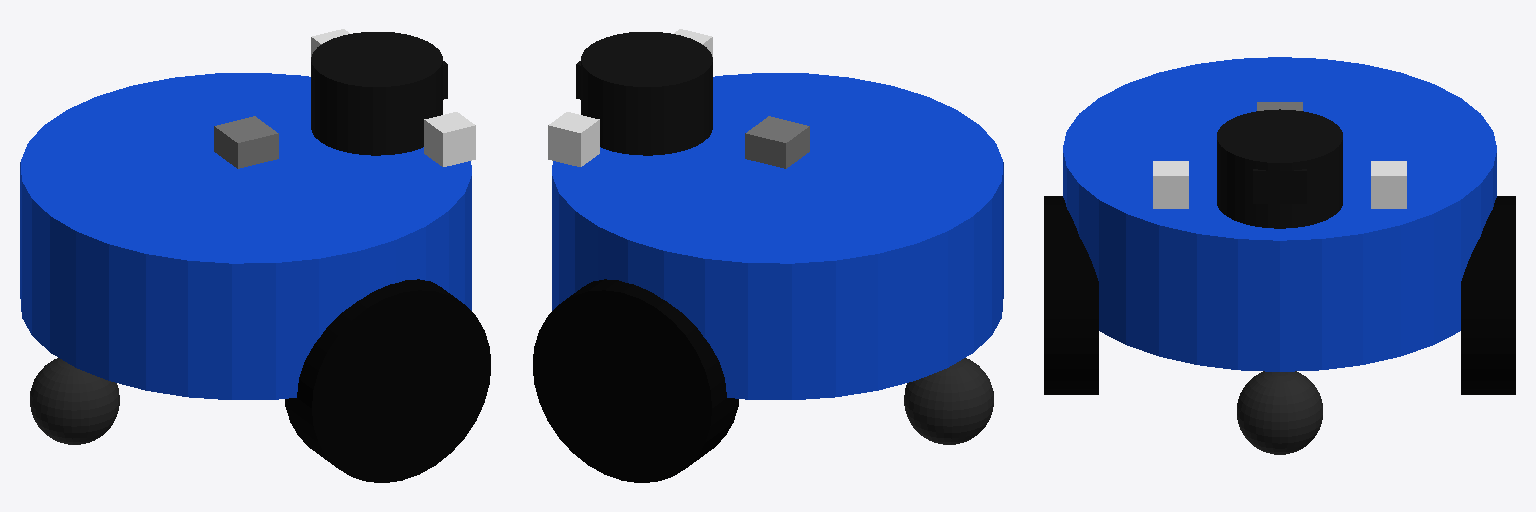
The robot description file, URDF, robot "fishbot":
<?xml version="1.0"?>
<robot name="fishbot">

  <link name="base_footprint"/>

  <joint name="base_joint" type="fixed">
    <parent link="base_footprint"/>
    <child link="base_link"/>
    <origin xyz="0 0 0.055" rpy="0 0 0"/>
  </joint>

  <link name="base_link">
    <visual>
      <origin xyz="0 0 0.04" rpy="0 0 0"/>
      <geometry>
        <cylinder length="0.08" radius="0.12"/>
      </geometry>
      <material name="body_blue">
        <color rgba="0.1 0.35 0.9 0.9"/>
      </material>
    </visual>
    <collision>
      <origin xyz="0 0 0.04" rpy="0 0 0"/>
      <geometry>
        <cylinder length="0.08" radius="0.11"/>
      </geometry>
    </collision>
    <inertial>
      <origin xyz="0 0 0.04" rpy="0 0 0"/>
      <mass value="6.0"/>
      <inertia ixx="0.0304" ixy="0.0" ixz="0.0" iyy="0.0304" iyz="0.0" izz="0.0436"/>
    </inertial>
  </link>

  <link name="velodyne">
    <visual>
      <origin xyz="0 0 0" rpy="0 0 0"/>
      <geometry>
        <cylinder length="0.04" radius="0.035"/>
      </geometry>
      <material name="sensor_black">
        <color rgba="0.1 0.1 0.1 1.0"/>
      </material>
    </visual>
    <collision>
      <origin xyz="0 0 0" rpy="0 0 0"/>
      <geometry>
        <cylinder length="0.04" radius="0.035"/>
      </geometry>
    </collision>
    <inertial>
      <mass value="0.15"/>
      <inertia ixx="0.00012" ixy="0.0" ixz="0.0" iyy="0.00012" iyz="0.0" izz="0.00009"/>
    </inertial>
  </link>

  <joint name="lidar_joint" type="fixed">
    <parent link="base_link"/>
    <child link="velodyne"/>
    <origin xyz="0.08 0 0.105" rpy="0 0 0"/>
  </joint>

  <link name="imu_link">
    <visual>
      <origin xyz="0 0 0" rpy="0 0 0"/>
      <geometry>
        <box size="0.025 0.025 0.015"/>
      </geometry>
      <material name="imu_gray">
        <color rgba="0.5 0.5 0.5 1.0"/>
      </material>
    </visual>
    <collision>
      <origin xyz="0 0 0" rpy="0 0 0"/>
      <geometry>
        <box size="0.025 0.025 0.015"/>
      </geometry>
    </collision>
    <inertial>
      <mass value="0.05"/>
      <inertia ixx="0.00001" ixy="0.0" ixz="0.0" iyy="0.00001" iyz="0.0" izz="0.00001"/>
    </inertial>
  </link>

  <joint name="imu_joint" type="fixed">
    <parent link="base_link"/>
    <child link="imu_link"/>
    <origin xyz="0 0 0.095" rpy="0 0 0"/>
  </joint>

  <link name="camera_link">
    <visual>
      <origin xyz="0 0 0" rpy="0 0 0"/>
      <geometry>
        <box size="0.03 0.03 0.02"/>
      </geometry>
      <material name="sensor_black"/>
    </visual>
    <collision>
      <origin xyz="0 0 0" rpy="0 0 0"/>
      <geometry>
        <box size="0.03 0.03 0.02"/>
      </geometry>
    </collision>
    <inertial>
      <mass value="0.05"/>
      <inertia ixx="0.00001" ixy="0.0" ixz="0.0" iyy="0.00001" iyz="0.0" izz="0.00001"/>
    </inertial>
  </link>

  <joint name="camera_joint" type="fixed">
    <parent link="base_link"/>
    <child link="camera_link"/>
    <origin xyz="0.10 0.0 0.11" rpy="0 0 0"/>
  </joint>

  <link name="camera_optical_frame"/>

  <joint name="camera_optical_joint" type="fixed">
    <parent link="camera_link"/>
    <child link="camera_optical_frame"/>
    <origin xyz="0 0 0" rpy="-1.57079632679 0 -1.57079632679"/>
  </joint>

  <link name="navsat_link">
    <visual>
      <origin xyz="0 0 0" rpy="0 0 0"/>
      <geometry>
        <box size="0.02 0.02 0.02"/>
      </geometry>
      <material name="gps_white">
        <color rgba="0.95 0.95 0.95 1.0"/>
      </material>
    </visual>
    <collision>
      <origin xyz="0 0 0" rpy="0 0 0"/>
      <geometry>
        <box size="0.02 0.02 0.02"/>
      </geometry>
    </collision>
    <inertial>
      <mass value="0.05"/>
      <inertia ixx="0.00001" ixy="0.0" ixz="0.0" iyy="0.00001" iyz="0.0" izz="0.00001"/>
    </inertial>
  </link>

  <joint name="navsat_joint" type="fixed">
    <parent link="base_link"/>
    <child link="navsat_link"/>
    <origin xyz="0.09 0.06 0.10" rpy="0 0 0"/>
  </joint>

  <link name="gps_link">
    <visual>
      <origin xyz="0 0 0" rpy="0 0 0"/>
      <geometry>
        <box size="0.02 0.02 0.02"/>
      </geometry>
      <material name="gps_white"/>
    </visual>
    <collision>
      <origin xyz="0 0 0" rpy="0 0 0"/>
      <geometry>
        <box size="0.02 0.02 0.02"/>
      </geometry>
    </collision>
    <inertial>
      <mass value="0.05"/>
      <inertia ixx="0.00001" ixy="0.0" ixz="0.0" iyy="0.00001" iyz="0.0" izz="0.00001"/>
    </inertial>
  </link>

  <joint name="gps_joint" type="fixed">
    <parent link="base_link"/>
    <child link="gps_link"/>
    <origin xyz="0.09 -0.06 0.10" rpy="0 0 0"/>
  </joint>

  <link name="left_wheel_link">
    <visual>
      <origin xyz="0 0 0" rpy="1.57079632679 0 0"/>
      <geometry>
        <cylinder length="0.03" radius="0.055"/>
      </geometry>
      <material name="wheel_black">
        <color rgba="0.05 0.05 0.05 1.0"/>
      </material>
    </visual>
    <collision>
      <origin xyz="0 0 0" rpy="0 0 0"/>
      <geometry>
        <sphere radius="0.055"/>
      </geometry>
    </collision>
    <inertial>
      <mass value="0.5"/>
      <inertia ixx="0.00092" ixy="0.0" ixz="0.0" iyy="0.00046" iyz="0.0" izz="0.00092"/>
    </inertial>
  </link>

  <link name="right_wheel_link">
    <visual>
      <origin xyz="0 0 0" rpy="1.57079632679 0 0"/>
      <geometry>
        <cylinder length="0.03" radius="0.055"/>
      </geometry>
      <material name="wheel_black"/>
    </visual>
    <collision>
      <origin xyz="0 0 0" rpy="0 0 0"/>
      <geometry>
        <sphere radius="0.055"/>
      </geometry>
    </collision>
    <inertial>
      <mass value="0.5"/>
      <inertia ixx="0.00092" ixy="0.0" ixz="0.0" iyy="0.00046" iyz="0.0" izz="0.00092"/>
    </inertial>
  </link>

  <joint name="left_wheel_joint" type="continuous">
    <parent link="base_link"/>
    <child link="left_wheel_link"/>
    <origin xyz="0.02 0.115 0.0" rpy="0 0 0"/>
    <axis xyz="0 1 0"/>
  </joint>

  <joint name="right_wheel_joint" type="continuous">
    <parent link="base_link"/>
    <child link="right_wheel_link"/>
    <origin xyz="0.02 -0.115 0.0" rpy="0 0 0"/>
    <axis xyz="0 1 0"/>
  </joint>

  <link name="caster_link">
    <visual>
      <origin xyz="0 0 0" rpy="0 0 0"/>
      <geometry>
        <sphere radius="0.024"/>
      </geometry>
      <material name="caster_gray">
        <color rgba="0.2 0.2 0.2 1.0"/>
      </material>
    </visual>
    <collision>
      <origin xyz="0 0 0" rpy="0 0 0"/>
      <geometry>
        <sphere radius="0.024"/>
      </geometry>
    </collision>
    <inertial>
      <mass value="0.08"/>
      <inertia ixx="0.00003" ixy="0.0" ixz="0.0" iyy="0.00003" iyz="0.0" izz="0.00003"/>
    </inertial>
  </link>

  <joint name="caster_joint" type="continuous">
    <parent link="base_link"/>
    <child link="caster_link"/>
    <origin xyz="0.105 0.0 -0.031" rpy="0 0 0"/>
    <axis xyz="0 0 1"/>
  </joint>

  <link name="rear_caster_link">
    <visual>
      <origin xyz="0 0 0" rpy="0 0 0"/>
      <geometry>
        <sphere radius="0.024"/>
      </geometry>
      <material name="caster_gray"/>
    </visual>
    <collision>
      <origin xyz="0 0 0" rpy="0 0 0"/>
      <geometry>
        <sphere radius="0.024"/>
      </geometry>
    </collision>
    <inertial>
      <mass value="0.08"/>
      <inertia ixx="0.00003" ixy="0.0" ixz="0.0" iyy="0.00003" iyz="0.0" izz="0.00003"/>
    </inertial>
  </link>

  <joint name="rear_caster_joint" type="continuous">
    <parent link="base_link"/>
    <child link="rear_caster_link"/>
    <origin xyz="-0.105 0.0 -0.031" rpy="0 0 0"/>
    <axis xyz="0 0 1"/>
  </joint>

  <gazebo reference="base_link">
    <material>Gazebo/Blue</material>
  </gazebo>

  <gazebo reference="left_wheel_link">
    <material>Gazebo/Black</material>
    <mu1 value="2.5"/>
    <mu2 value="2.5"/>
    <kp value="1000000.0"/>
    <kd value="100.0"/>
  </gazebo>

  <gazebo reference="right_wheel_link">
    <material>Gazebo/Black</material>
    <mu1 value="2.5"/>
    <mu2 value="2.5"/>
    <kp value="1000000.0"/>
    <kd value="100.0"/>
  </gazebo>

  <gazebo reference="caster_link">
    <material>Gazebo/DarkGrey</material>
    <mu1 value="0.05"/>
    <mu2 value="0.05"/>
    <kp value="1000000.0"/>
    <kd value="50.0"/>
  </gazebo>

  <gazebo reference="rear_caster_link">
    <material>Gazebo/DarkGrey</material>
    <mu1 value="0.05"/>
    <mu2 value="0.05"/>
    <kp value="1000000.0"/>
    <kd value="50.0"/>
  </gazebo>

  <gazebo>
    <plugin name="joint_state_publisher" filename="libgazebo_ros_joint_state_publisher.so">
      <update_rate>30</update_rate>
      <joint_name>left_wheel_joint</joint_name>
      <joint_name>right_wheel_joint</joint_name>
      <joint_name>caster_joint</joint_name>
      <joint_name>rear_caster_joint</joint_name>
    </plugin>

    <plugin name="diff_drive" filename="libgazebo_ros_diff_drive.so">
      <ros>
        <namespace>/</namespace>
        <remapping>cmd_vel:=cmd_vel</remapping>
        <remapping>odom:=/odom</remapping>
      </ros>
      <update_rate>100</update_rate>
      <left_joint>left_wheel_joint</left_joint>
      <right_joint>right_wheel_joint</right_joint>
      <wheel_separation>0.23</wheel_separation>
      <wheel_diameter>0.11</wheel_diameter>
      <max_wheel_torque>20</max_wheel_torque>
      <max_wheel_acceleration>6.0</max_wheel_acceleration>
      <odometry_source>0</odometry_source>
      <publish_odom>true</publish_odom>
      <publish_odom_tf>false</publish_odom_tf>
      <publish_wheel_tf>false</publish_wheel_tf>
      <odometry_frame>odom</odometry_frame>
      <robot_base_frame>base_link</robot_base_frame>
    </plugin>
  </gazebo>

  <gazebo reference="imu_link">
    <sensor name="imu_sensor" type="imu">
      <plugin filename="libgazebo_ros_imu_sensor.so" name="imu_plugin">
        <ros>
          <namespace>/</namespace>
          <remapping>~/out:=/imu</remapping>
        </ros>
        <initial_orientation_as_reference>false</initial_orientation_as_reference>
      </plugin>
      <always_on>true</always_on>
      <update_rate>100</update_rate>
      <visualize>false</visualize>
      <imu>
        <angular_velocity>
          <x>
            <noise type="gaussian">
              <mean>0.0</mean>
              <stddev>2e-4</stddev>
              <bias_mean>0.0</bias_mean>
              <bias_stddev>1.0e-6</bias_stddev>
            </noise>
          </x>
          <y>
            <noise type="gaussian">
              <mean>0.0</mean>
              <stddev>2e-4</stddev>
              <bias_mean>0.0</bias_mean>
              <bias_stddev>1.0e-6</bias_stddev>
            </noise>
          </y>
          <z>
            <noise type="gaussian">
              <mean>0.0</mean>
              <stddev>2e-4</stddev>
              <bias_mean>0.0</bias_mean>
              <bias_stddev>1.0e-6</bias_stddev>
            </noise>
          </z>
        </angular_velocity>
        <linear_acceleration>
          <x>
            <noise type="gaussian">
              <mean>0.0</mean>
              <stddev>2.0e-3</stddev>
              <bias_mean>0.0</bias_mean>
              <bias_stddev>1.0e-4</bias_stddev>
            </noise>
          </x>
          <y>
            <noise type="gaussian">
              <mean>0.0</mean>
              <stddev>2.0e-3</stddev>
              <bias_mean>0.0</bias_mean>
              <bias_stddev>1.0e-4</bias_stddev>
            </noise>
          </y>
          <z>
            <noise type="gaussian">
              <mean>0.0</mean>
              <stddev>2.0e-3</stddev>
              <bias_mean>0.0</bias_mean>
              <bias_stddev>1.0e-4</bias_stddev>
            </noise>
          </z>
        </linear_acceleration>
      </imu>
    </sensor>
  </gazebo>

  <gazebo reference="camera_link">
    <sensor name="rgbd_camera_sensor" type="depth">
      <always_on>true</always_on>
      <update_rate>10</update_rate>
      <visualize>false</visualize>
      <camera name="rgbd_camera">
        <horizontal_fov>1.047198</horizontal_fov>
        <image>
          <width>320</width>
          <height>240</height>
          <format>B8G8R8</format>
        </image>
        <depth_camera>
        </depth_camera>
        <clip>
          <near>0.05</near>
          <far>20.0</far>
        </clip>
        <noise>
          <type>gaussian</type>
          <mean>0.0</mean>
          <stddev>0.0005</stddev>
        </noise>
      </camera>
      <plugin name="rgbd_camera_plugin" filename="libgazebo_ros_camera.so">
        <ros>
          <namespace>/camera</namespace>
        </ros>
        <camera_name>camera</camera_name>
        <frame_name>camera_optical_frame</frame_name>
        <min_depth>0.05</min_depth>
        <max_depth>20.0</max_depth>
      </plugin>
    </sensor>
  </gazebo>

  <gazebo reference="velodyne">
    <sensor name="laser_sensor" type="ray">
      <always_on>true</always_on>
      <visualize>false</visualize>
      <update_rate>10</update_rate>
      <pose>0 0 0.01 0 0 0</pose>
      <ray>
        <scan>
          <horizontal>
            <samples>360</samples>
            <resolution>1.000000</resolution>
            <min_angle>-3.141593</min_angle>
            <max_angle>3.141593</max_angle>
          </horizontal>
          <vertical>
            <samples>1</samples>
            <resolution>1.000000</resolution>
            <min_angle>0.000000</min_angle>
            <max_angle>0.000000</max_angle>
          </vertical>
        </scan>
        <range>
          <min>0.100000</min>
          <max>100.0</max>
          <resolution>0.015000</resolution>
        </range>
        <noise>
          <type>gaussian</type>
          <mean>0.0</mean>
          <stddev>0.01</stddev>
        </noise>
      </ray>
      <plugin name="my_ray_sensor_plugin" filename="libgazebo_ros_ray_sensor.so">
        <ros>
          <namespace>/ray</namespace>
          <remapping>~/out:=/scan</remapping>
        </ros>
        <output_type>sensor_msgs/LaserScan</output_type>
        <min_intensity>100.0</min_intensity>
        <frame_name>velodyne</frame_name>
      </plugin>
    </sensor>
  </gazebo>

  <gazebo reference="navsat_link">
    <sensor name="my_gps" type="gps">
      <always_on>true</always_on>
      <update_rate>10</update_rate>
      <plugin name="my_gps_plugin" filename="libgazebo_ros_gps_sensor.so">
        <ros>
          <namespace>/gps1</namespace>
          <remapping>~/out:=/gps/fix</remapping>
        </ros>
      </plugin>
    </sensor>
  </gazebo>

  <gazebo reference="gps_link">
    <sensor name="my_gpss" type="gps">
      <always_on>true</always_on>
      <update_rate>10</update_rate>
      <plugin name="my_gps_plugins" filename="libgazebo_ros_gps_sensor.so">
        <ros>
          <namespace>/gps2</namespace>
          <remapping>~/out:=/gps/fix2</remapping>
        </ros>
      </plugin>
    </sensor>
  </gazebo>

</robot>

--- What the picture shows (computed from the rendered views, not written in the file) ---
Views: 3 orthographic renders of the robot side by side, from view 1: azimuth 30°, elevation 25°; view 2: azimuth 150°, elevation 25°; view 3: azimuth 270°, elevation 25°.
Model fishbot with 12 links and 11 joints (4 continuous, 7 fixed), rooted at base_footprint, posed all joints at 0.
Links seen in each view (by area): view 1: base_link, right_wheel_link, velodyne, rear_caster_link, imu_link, gps_link; view 2: base_link, left_wheel_link, velodyne, rear_caster_link, imu_link, navsat_link; view 3: base_link, velodyne, left_wheel_link, right_wheel_link, caster_link, camera_link, navsat_link, gps_link.
Link boxes in pixels (bbox=[...]): base_link: bbox=[20, 73, 471, 399]; right_wheel_link: bbox=[285, 279, 490, 482]; velodyne: bbox=[311, 32, 442, 155]; rear_caster_link: bbox=[30, 358, 119, 444]; imu_link: bbox=[214, 116, 278, 168]; gps_link: bbox=[424, 112, 475, 166]; base_link: bbox=[552, 73, 1003, 399]; left_wheel_link: bbox=[533, 279, 738, 482]; velodyne: bbox=[581, 32, 712, 155]; rear_caster_link: bbox=[904, 358, 993, 444]; imu_link: bbox=[745, 116, 809, 168]; navsat_link: bbox=[548, 112, 599, 166]; base_link: bbox=[1063, 57, 1496, 371]; velodyne: bbox=[1217, 109, 1342, 228]; left_wheel_link: bbox=[1461, 196, 1515, 394]; right_wheel_link: bbox=[1044, 196, 1098, 394]; caster_link: bbox=[1237, 371, 1322, 454]; camera_link: bbox=[1253, 169, 1306, 203]; navsat_link: bbox=[1371, 161, 1406, 208]; gps_link: bbox=[1153, 161, 1188, 208].
Size in the robot's own frame: 0.258 by 0.26 by 0.18 metres.
Geometry: primitives only (box / cylinder / sphere), no mesh files.
